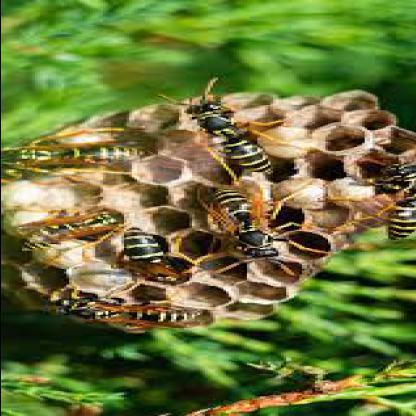other: (167, 87, 282, 181), (191, 190, 303, 272)
